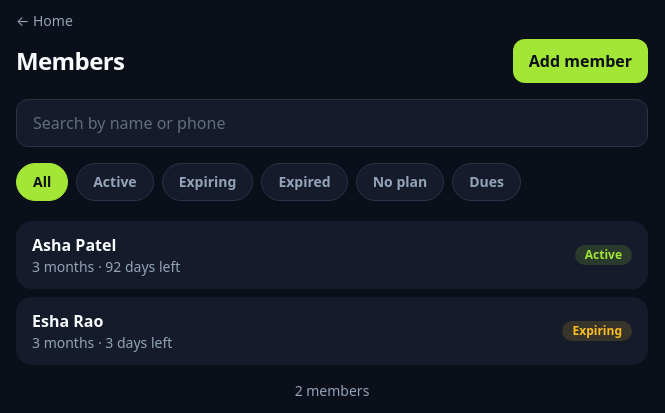
Test: members › lists members with status and filters by expiring
The image size is (665, 413).
Check: the text "Active" is shown, box [575,245,632,265]
Check: the text "3 months · 92 days left" is shown, box [32,257,180,277]
Click the button "Expiring" at (208,182), box [162,163,254,201]
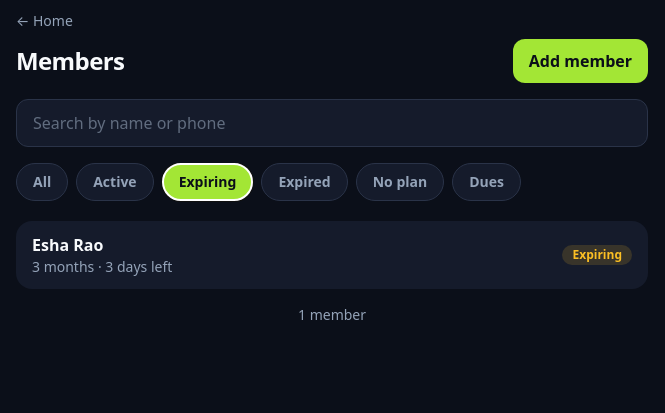
Check: the link "Esha Rao 3 months · 3 days left Expiring" is shown, box [16,221,648,289]
Check: the link "Asha Patel" is gone
